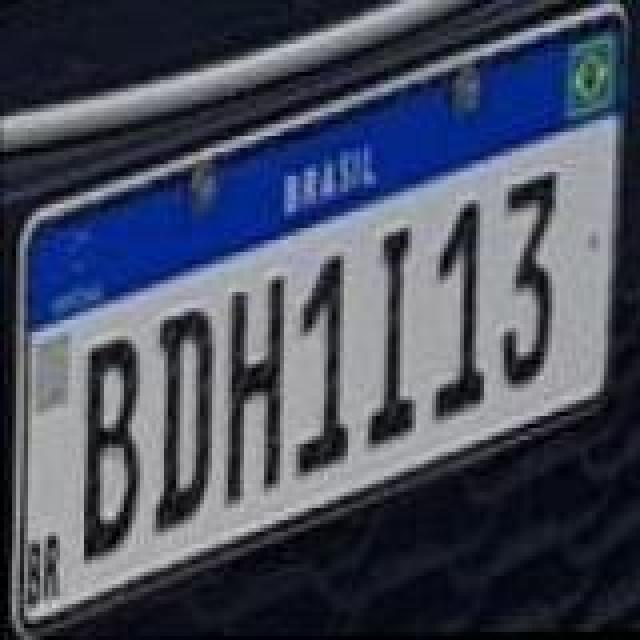1: (294, 250, 350, 478), (432, 198, 484, 430)
3: (500, 164, 560, 392)
B: (80, 334, 140, 558)
D: (150, 304, 214, 540)
H: (222, 272, 286, 508)
I: (364, 226, 416, 454)
